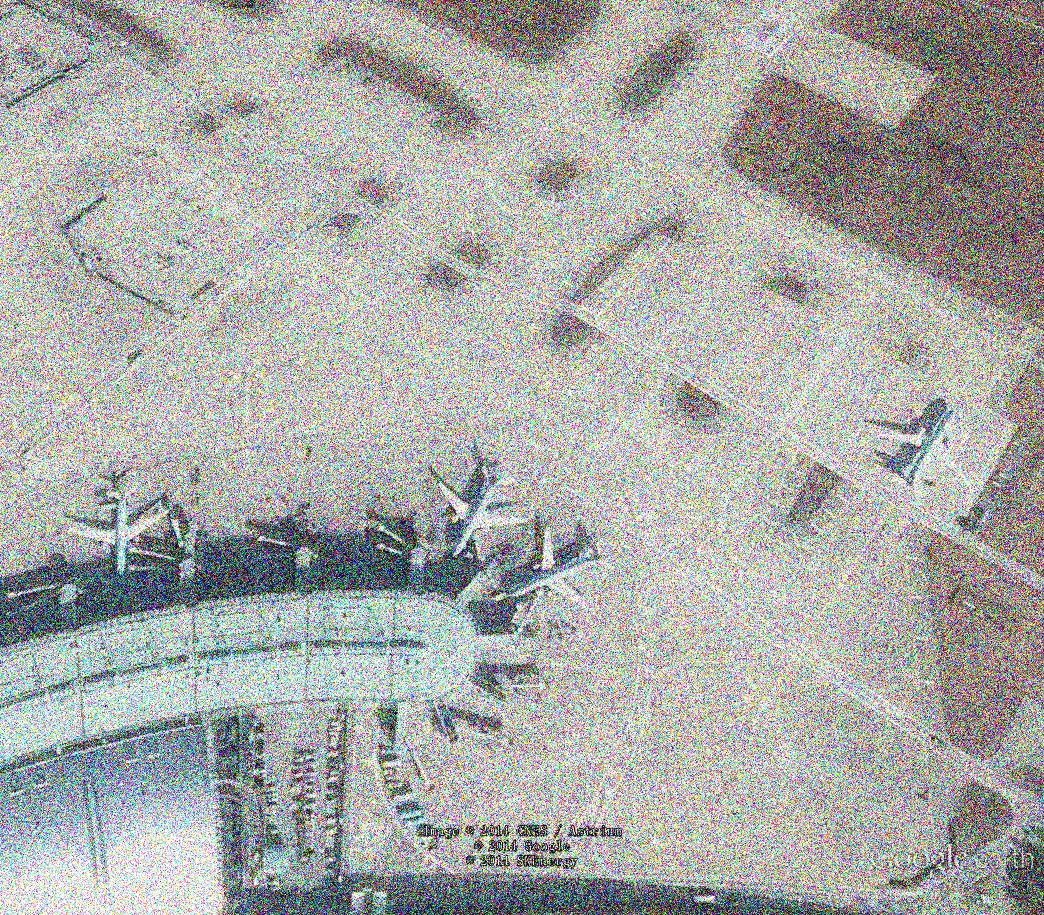aircraft: (495, 523, 621, 627), (430, 457, 540, 568), (871, 403, 985, 504), (63, 480, 175, 582)
